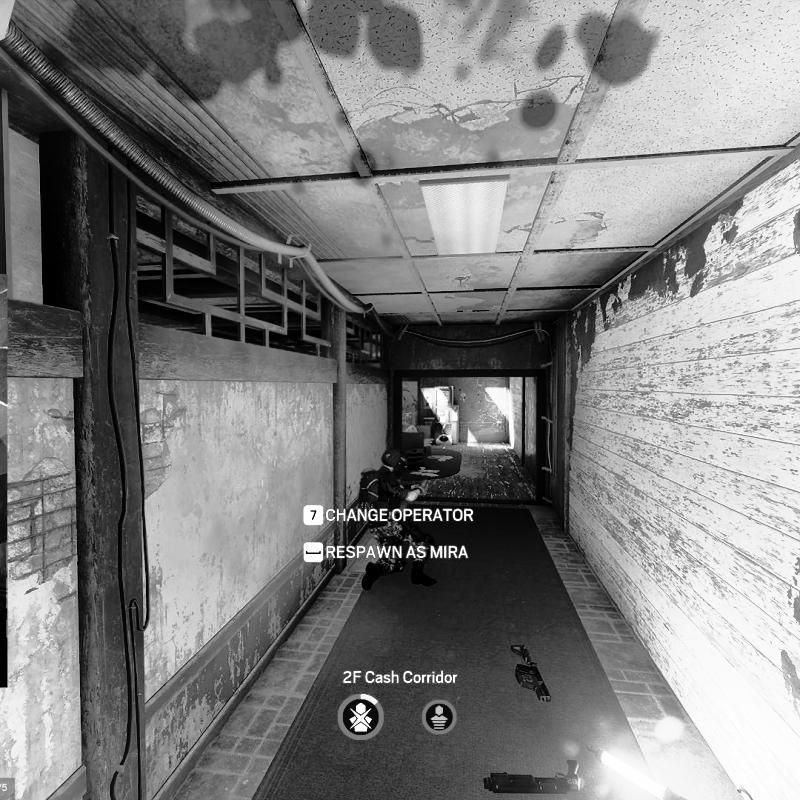Character: (356, 448, 438, 591)
Head: (382, 449, 404, 472)
